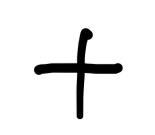plus: (34, 28, 122, 119)
